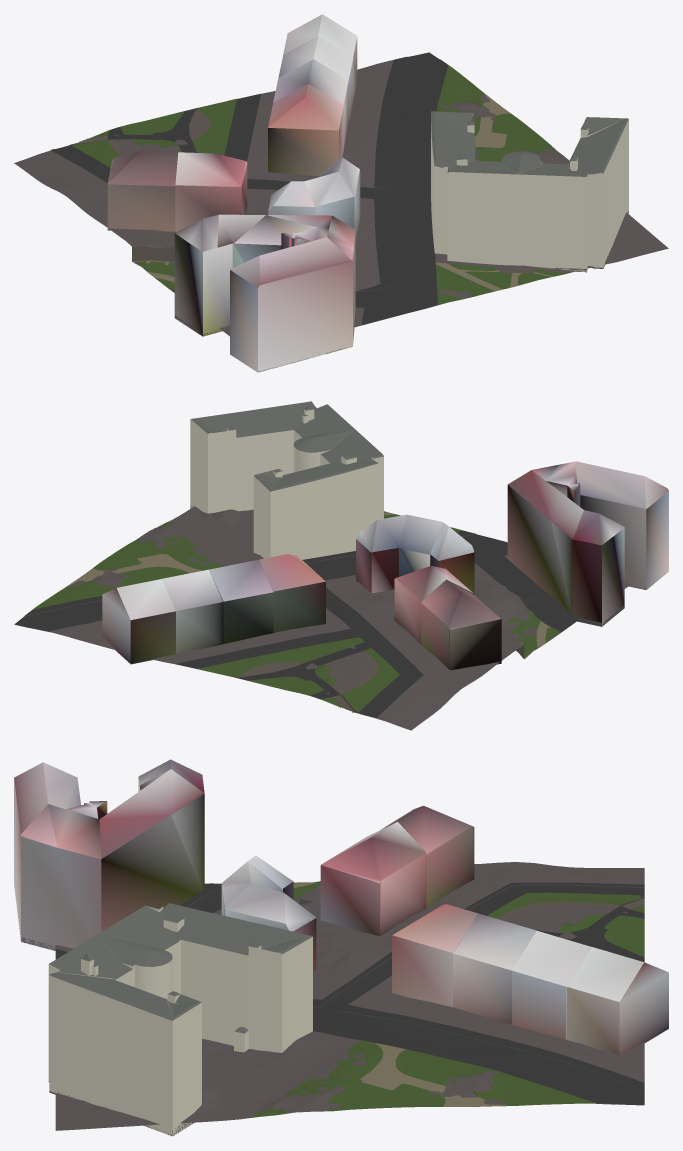
3 views of the same model, one above another, from view 1: azimuth 30°, elevation 25°; view 2: azimuth 150°, elevation 25°; view 3: azimuth 270°, elevation 25° (orthographic). The views are drawn at different scales.
Visible parts, largest first — view 1: c_p01_m14; view 2: c_p01_m14; view 3: c_p01_m14.
Part boxes in pixels (x1,y1,x2,y2): c_p01_m14: (14,14,668,372); c_p01_m14: (14,401,668,730); c_p01_m14: (14,759,668,1136).
Bounding box in the file's own units: 136 × 32.94 × 142.
